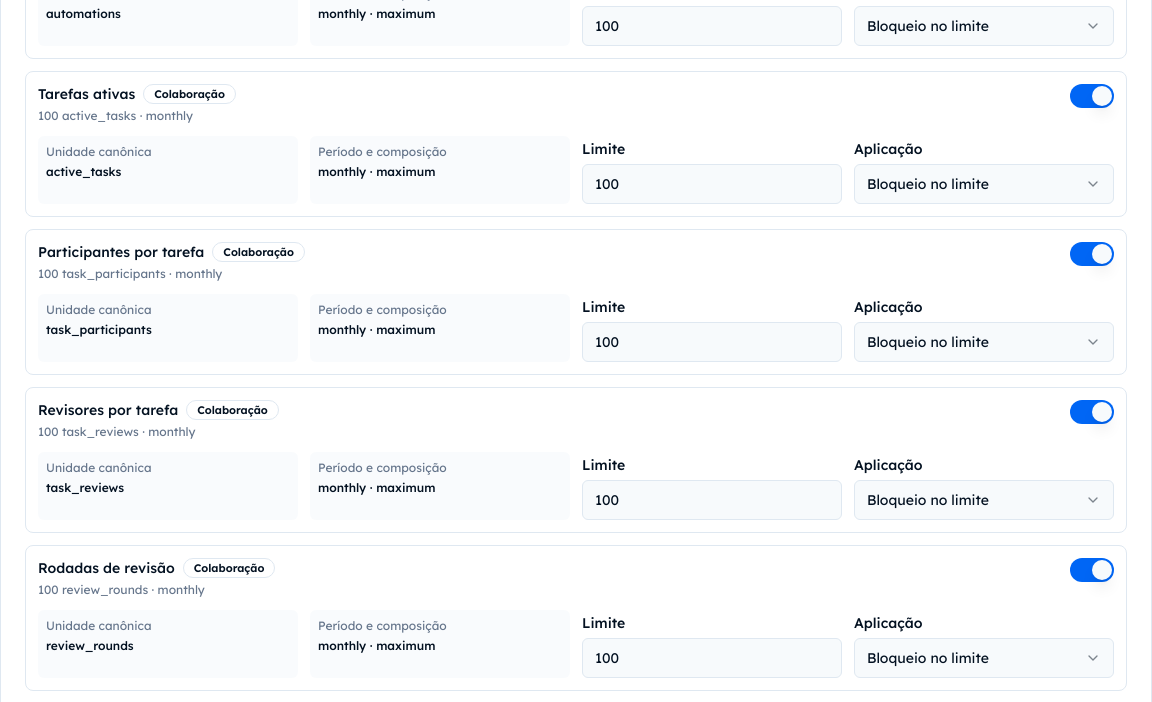
Test: PlatformCommercialCatalogPanel › lets an authorized platform admin save and preview but never publish a revision
(page scrolled)
Replace the text in the 3rd number field labelled "Limite" with "8" at (712, 342), box x1=582 y1=322 x2=842 y2=362
(page scrolled)
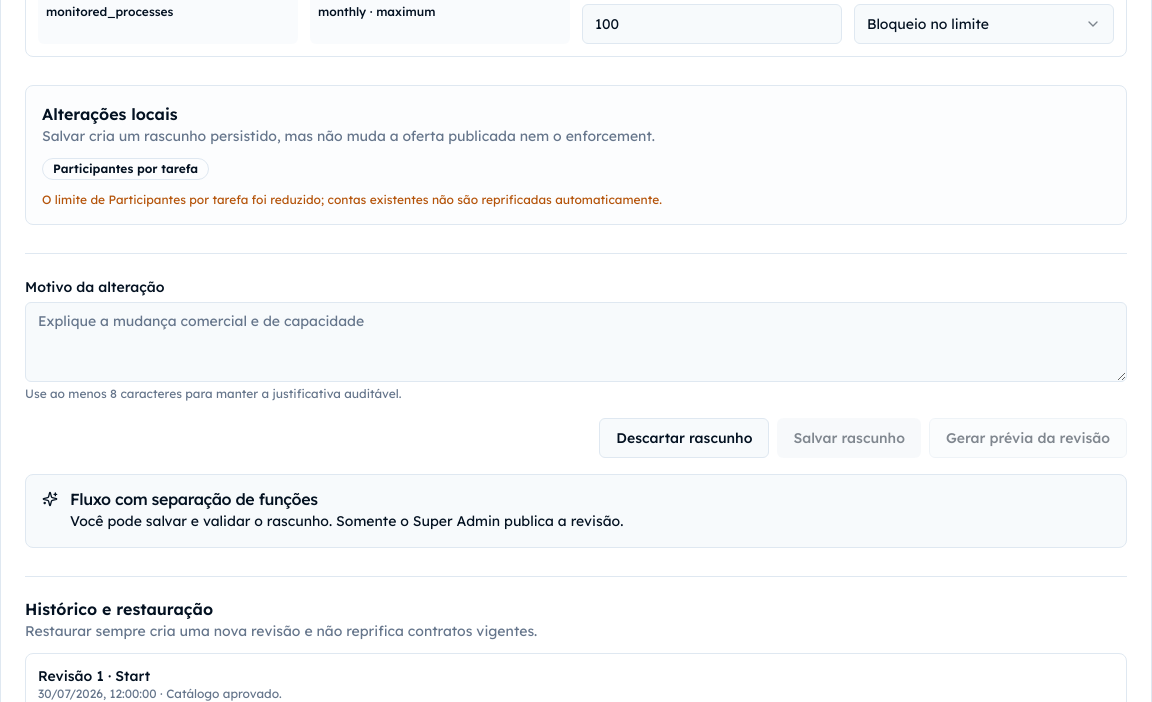
Type "Preparar novo limite para revisão." into the text box labelled "Motivo da alteração" at (576, 342), box x1=25 y1=302 x2=1127 y2=382
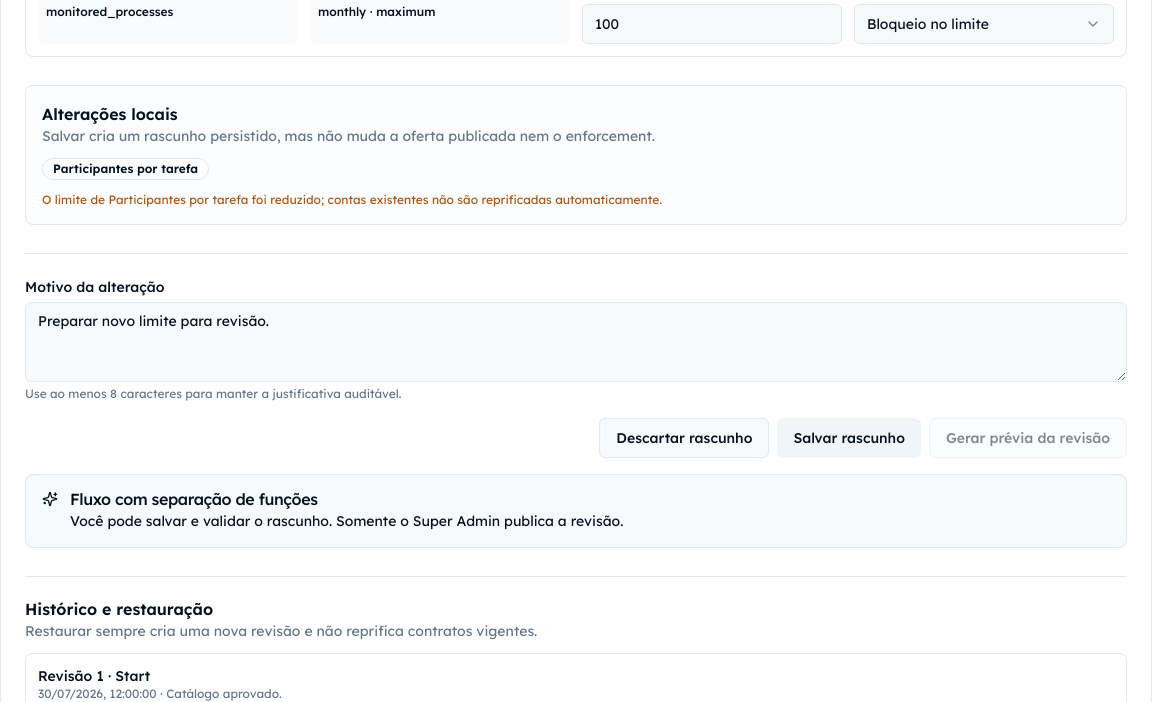
Click the button "Salvar rascunho" at (849, 438), box x1=777 y1=418 x2=921 y2=458
(page scrolled)
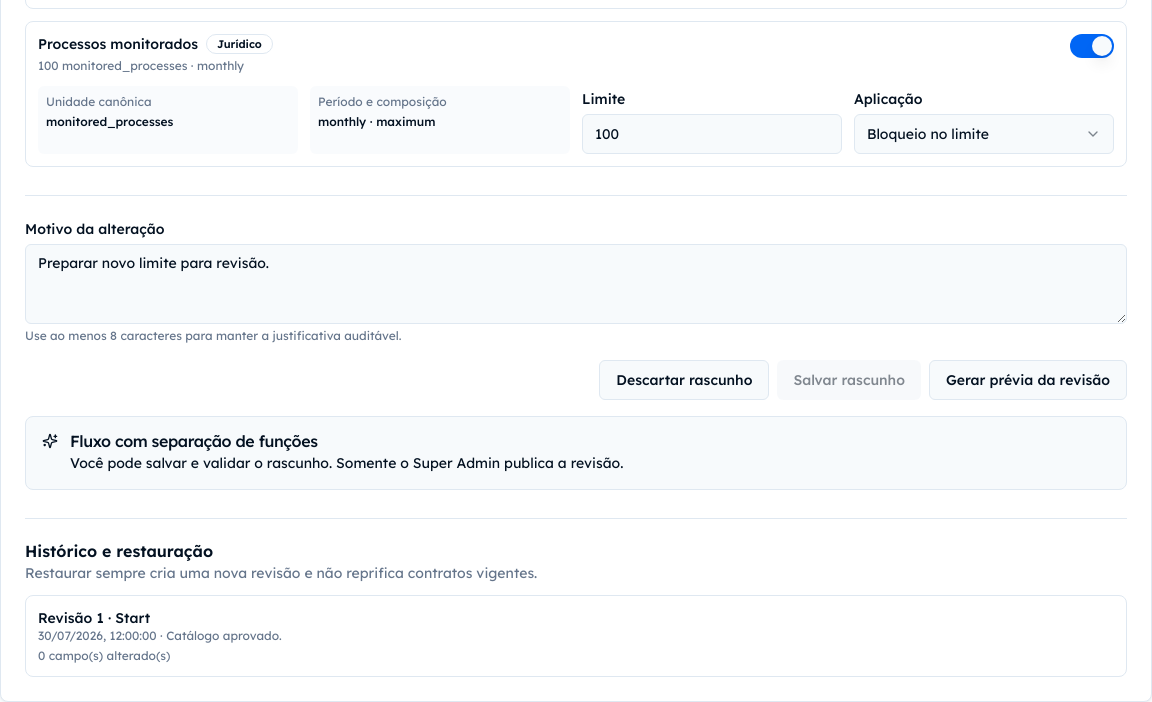
Click the button "Gerar prévia da revisão" at (1028, 380), box x1=929 y1=360 x2=1127 y2=400
(page scrolled)
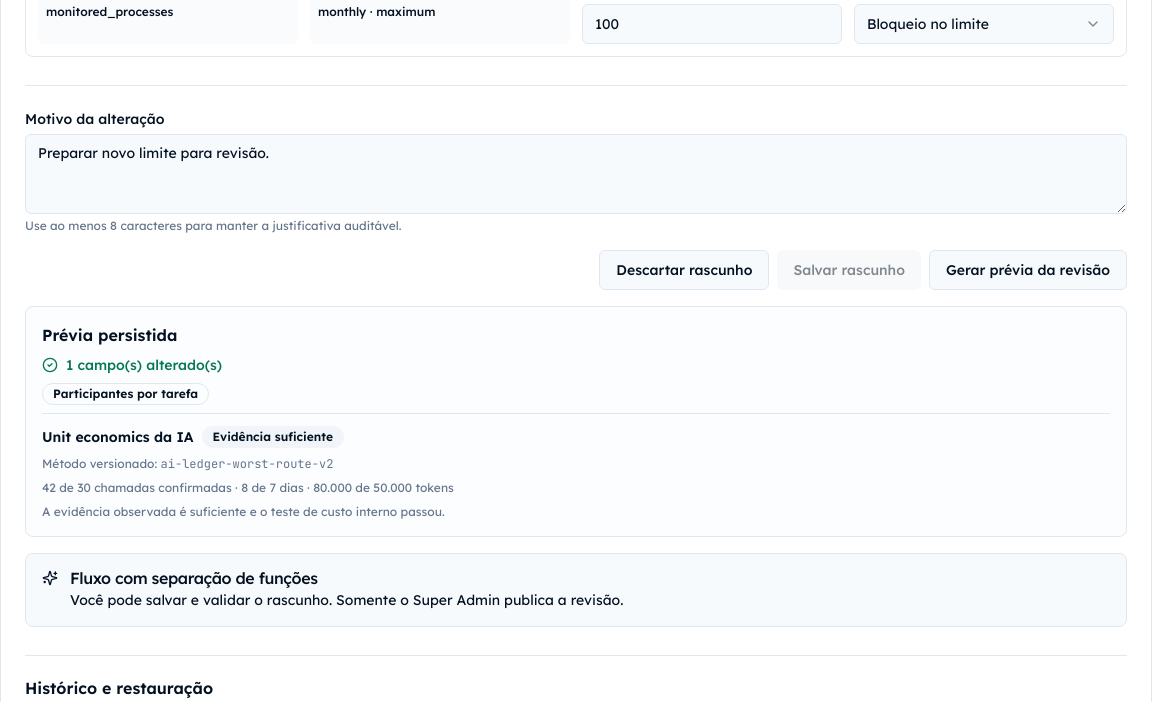
Expected: the text "Você pode salvar e validar o rascunho. Somente o Super Admin publica a revisão." is shown, x1=70 y1=591 x2=623 y2=609
Expected: the text "1 campo(s) alterado(s)" is shown, x1=42 y1=356 x2=222 y2=374
